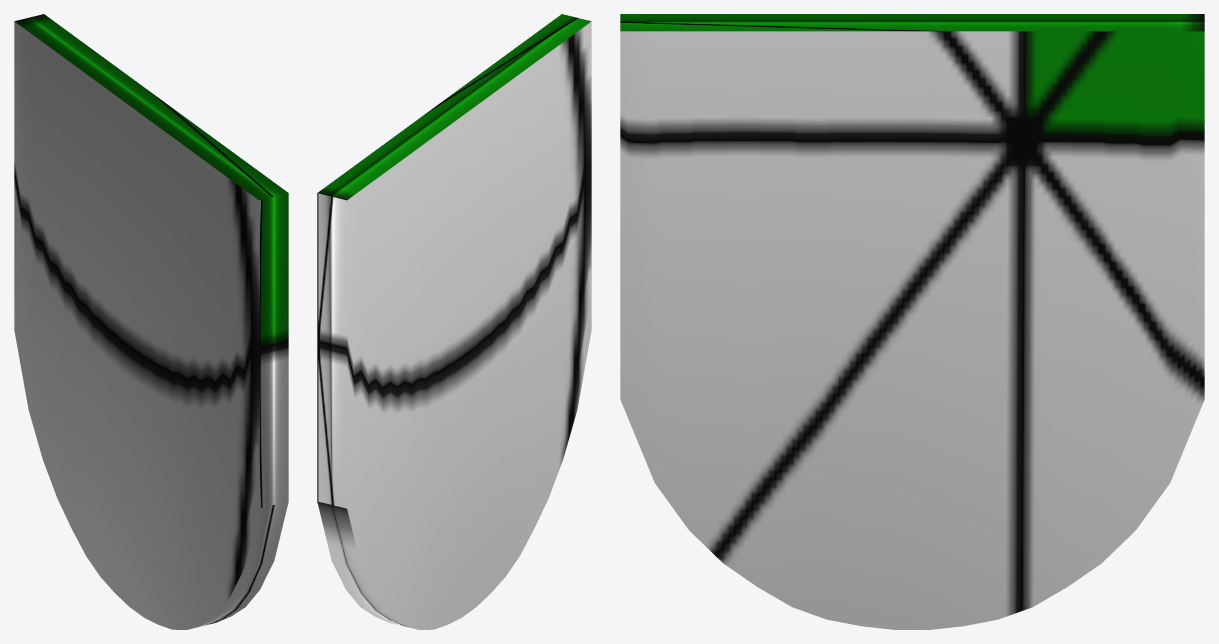
Rendered from Escudo_Salamanca.fbx.
The picture shows the model from 3 angles, left to right: view 1: azimuth 30°, elevation 25°; view 2: azimuth 150°, elevation 25°; view 3: azimuth 270°, elevation 25°; orthographic projection. The views are drawn at different scales.
Visible parts, largest first — view 1: Cubo; view 2: Cubo; view 3: Cubo.
Boxes of the visible parts, left/top/right/bottom form: Cubo: left=14, top=14, right=288, bottom=629; Cubo: left=317, top=14, right=591, bottom=629; Cubo: left=620, top=14, right=1204, bottom=629.
Bounding box in the file's own units: 48.69 × 781 × 691.
